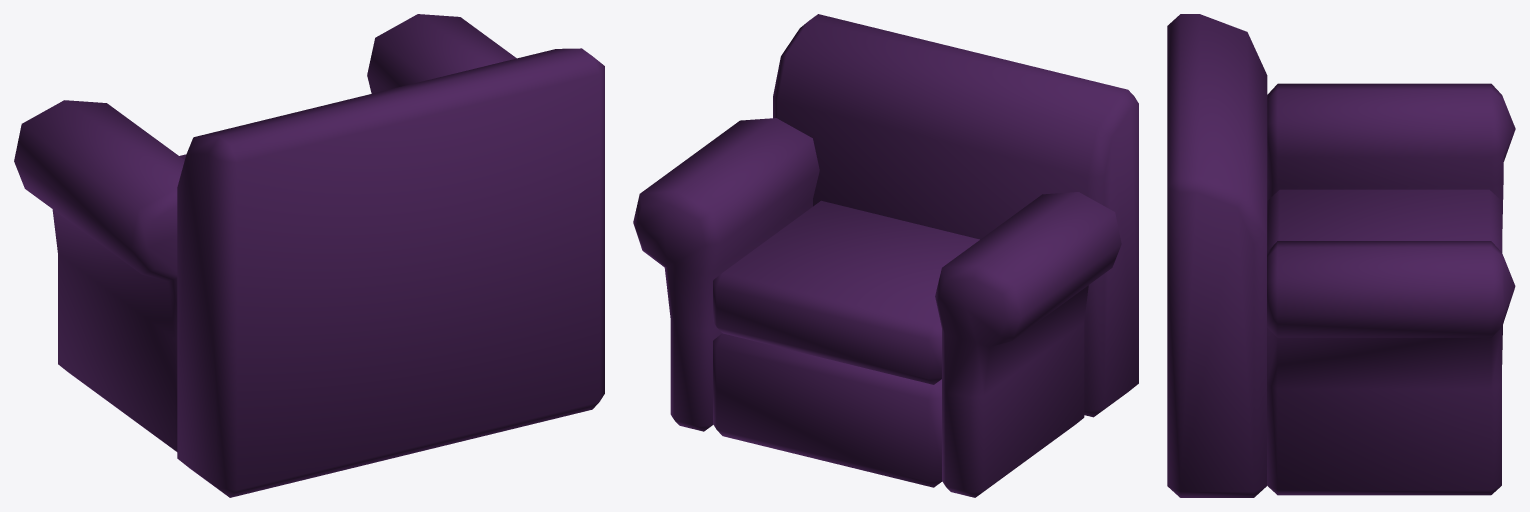
Rendered from Sofa.fbx.
3 views of the same model, side by side, from view 1: azimuth 30°, elevation 25°; view 2: azimuth 150°, elevation 25°; view 3: azimuth 270°, elevation 25° (orthographic). The views are drawn at different scales.
Parts seen in each view (by area): view 1: Sofa; view 2: Sofa; view 3: Sofa.
Boxes of the visible parts, <box> form: Sofa: <box>14,14,604,497</box>; Sofa: <box>633,14,1138,497</box>; Sofa: <box>1167,14,1515,497</box>.
Size of the model in its own units: 262 by 196 by 191.
